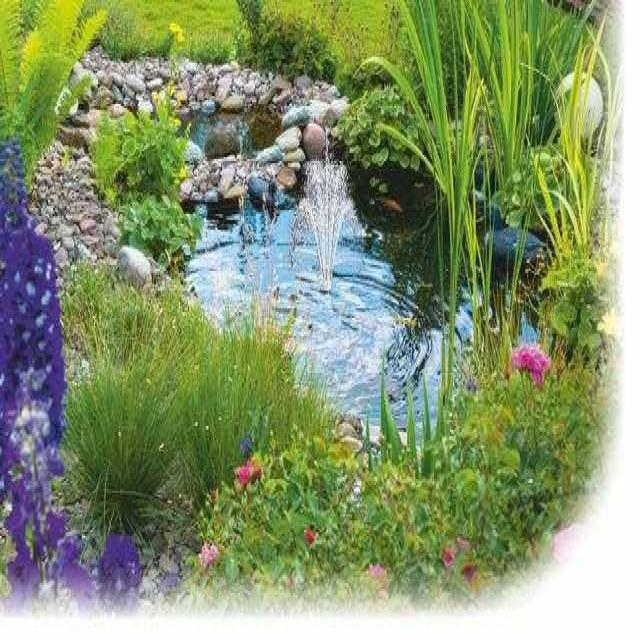Ponds: (30, 48, 559, 485)
